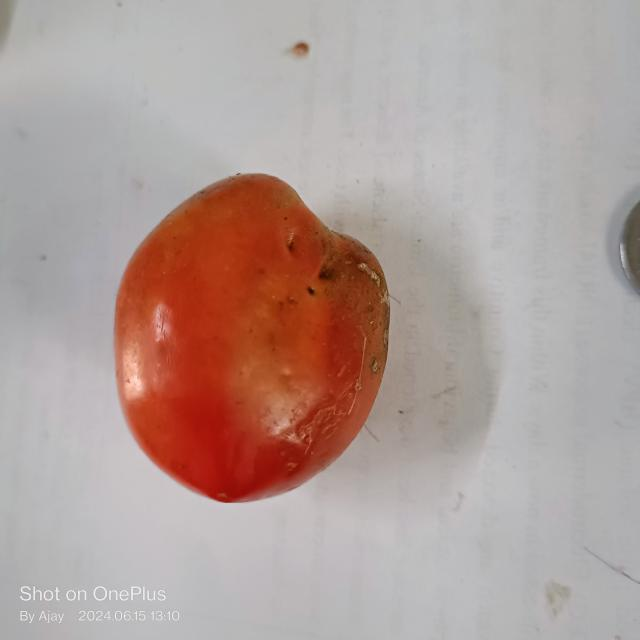Bacterial_Spot: (280, 227, 304, 255), (302, 279, 319, 308)
